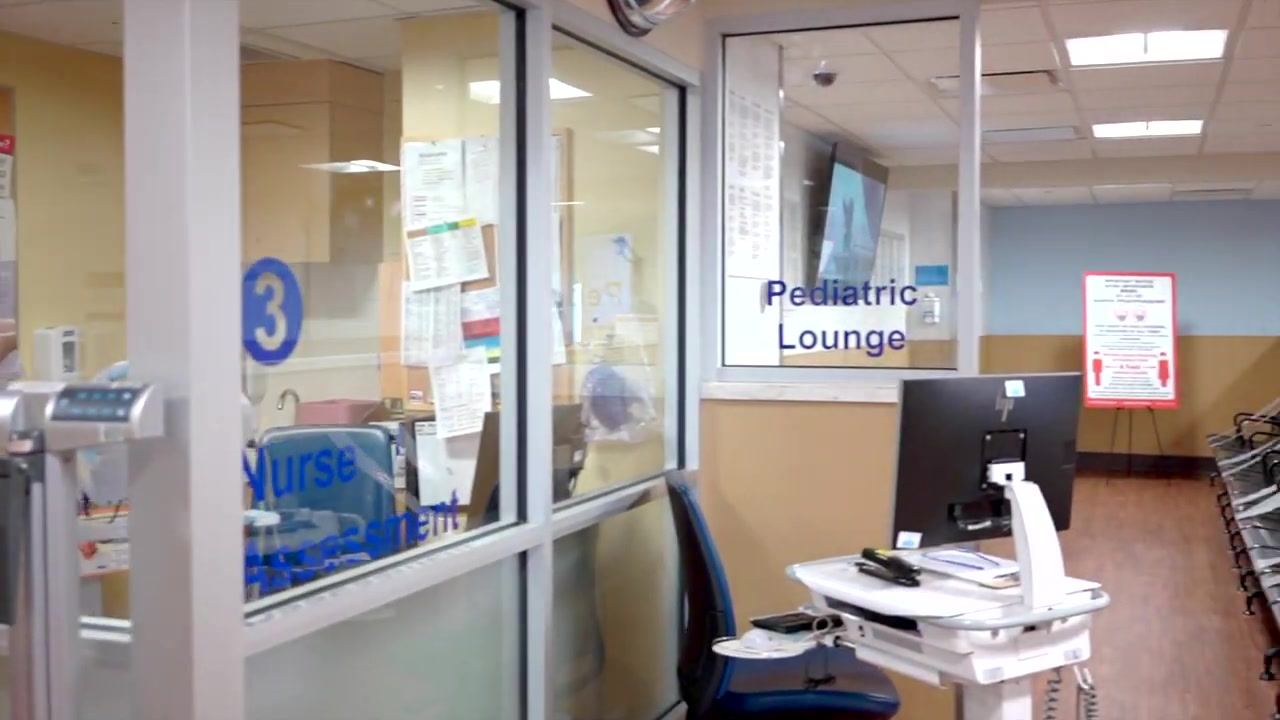TV: (804, 142, 892, 300)
chair: (666, 469, 900, 720), (247, 424, 401, 596)
computer: (888, 372, 1082, 550), (465, 403, 584, 532)
dispenser: (31, 325, 83, 381), (923, 292, 940, 325)
keyboard: (747, 610, 844, 637)
mouse: (737, 626, 784, 654)
